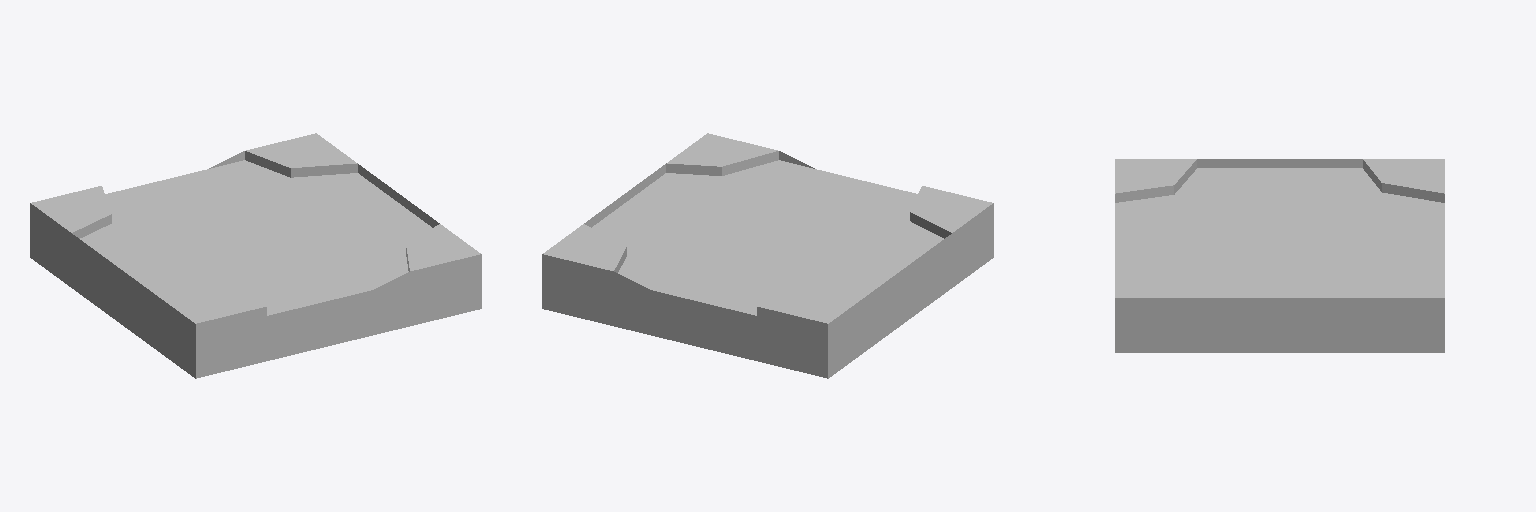
File: IntersectionDirt.obj
3 renders of one model, left to right at view 1: azimuth 30°, elevation 25°; view 2: azimuth 150°, elevation 25°; view 3: azimuth 270°, elevation 25°, orthographic.
Visible parts, largest first — view 1: roadTile_014; view 2: roadTile_014; view 3: roadTile_014.
Boxes of the visible parts, <box> form: roadTile_014: <box>30,133,481,378</box>; roadTile_014: <box>542,133,993,378</box>; roadTile_014: <box>1115,159,1444,352</box>.
Size of the model in its own units: 3 by 0.55 by 3.